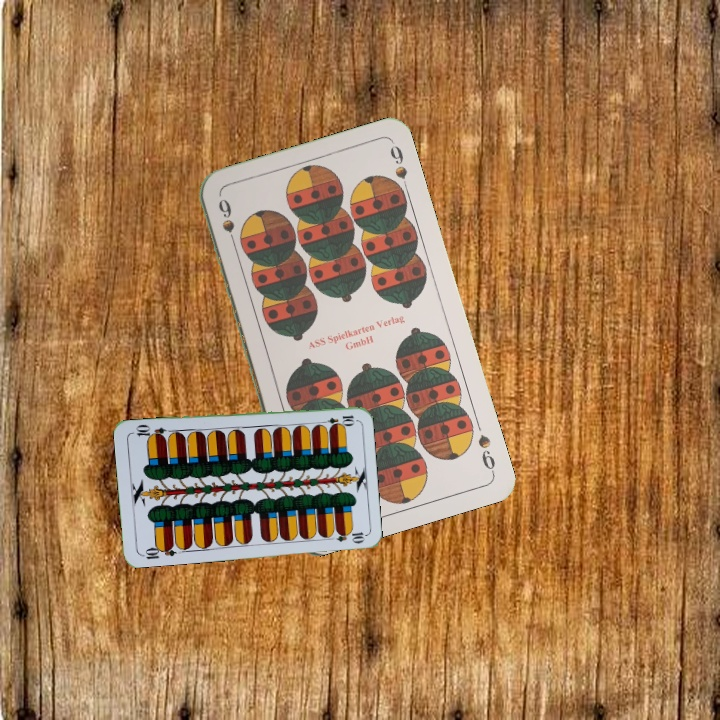E10: (138, 541, 178, 562), (316, 411, 357, 428)
S9: (214, 194, 240, 252), (474, 430, 498, 476)
